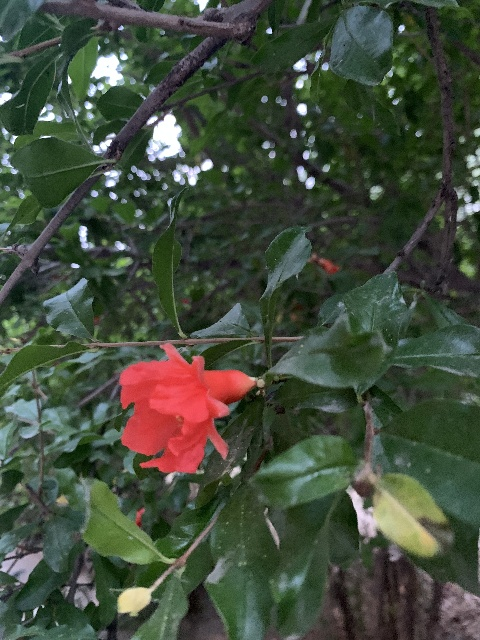flower: (117, 341, 255, 474)
